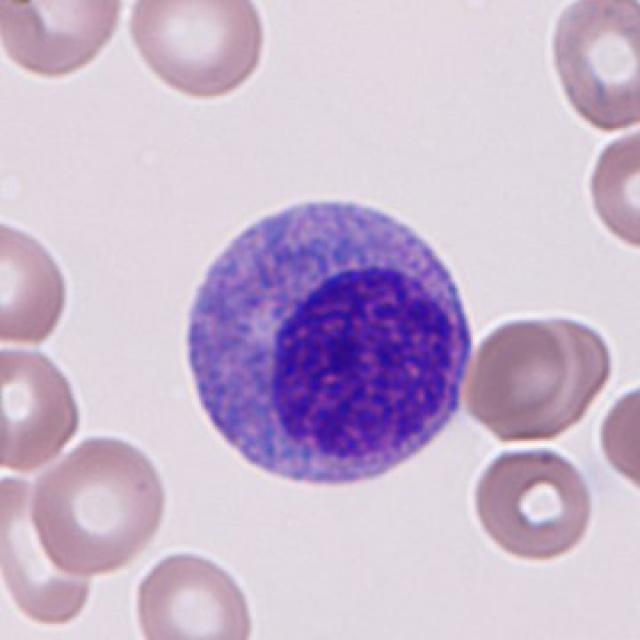Lymphocyte: (165, 176, 491, 505)
RBC: (25, 429, 172, 582), (459, 309, 606, 443), (0, 465, 101, 634), (466, 441, 599, 565), (123, 0, 272, 103), (128, 546, 261, 640), (546, 2, 640, 133), (0, 338, 87, 475), (0, 0, 126, 84), (0, 212, 75, 350), (583, 121, 640, 256), (595, 375, 640, 506)
